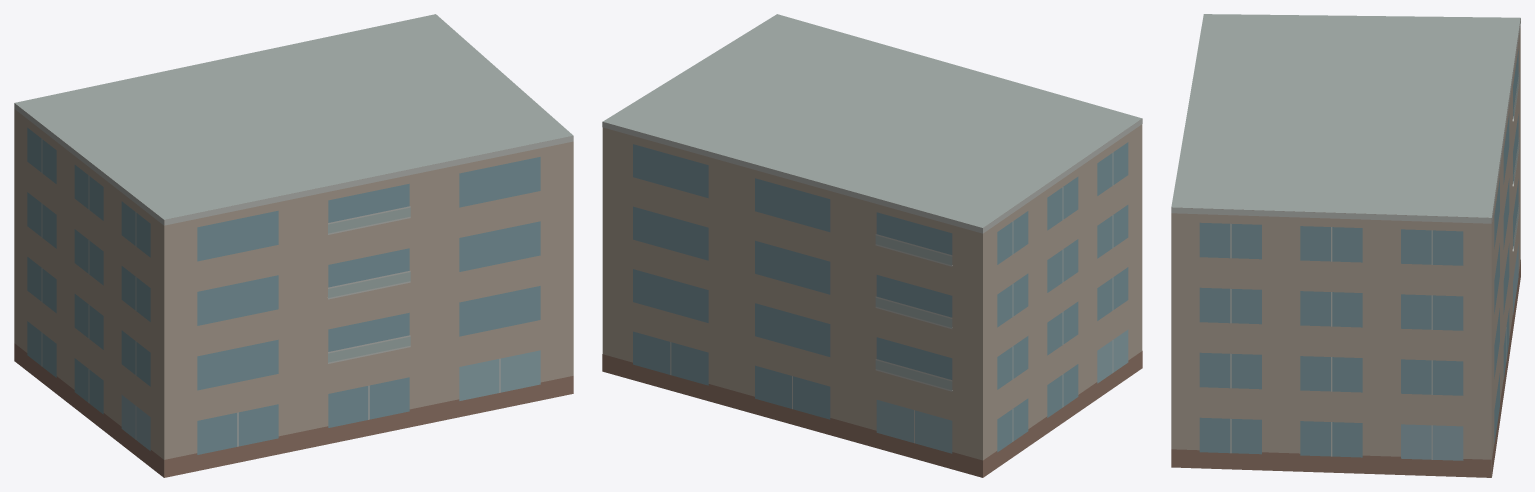
File: survey-upis-32812540.glb
The picture shows the model from 3 angles, left to right: view 1: azimuth 30°, elevation 25°; view 2: azimuth 150°, elevation 25°; view 3: azimuth 270°, elevation 25°; orthographic projection. The views are drawn at different scales.
Visible parts, largest first — view 1: survey-upis-32812540.tmp; view 2: survey-upis-32812540.tmp; view 3: survey-upis-32812540.tmp.
Part boxes in pixels (box(x1,y1,x2,y2)): survey-upis-32812540.tmp: box(14, 14, 573, 477); survey-upis-32812540.tmp: box(602, 14, 1142, 477); survey-upis-32812540.tmp: box(1171, 14, 1520, 477).
Size of the model in its own units: 18.17 by 10.8 by 13.17.
